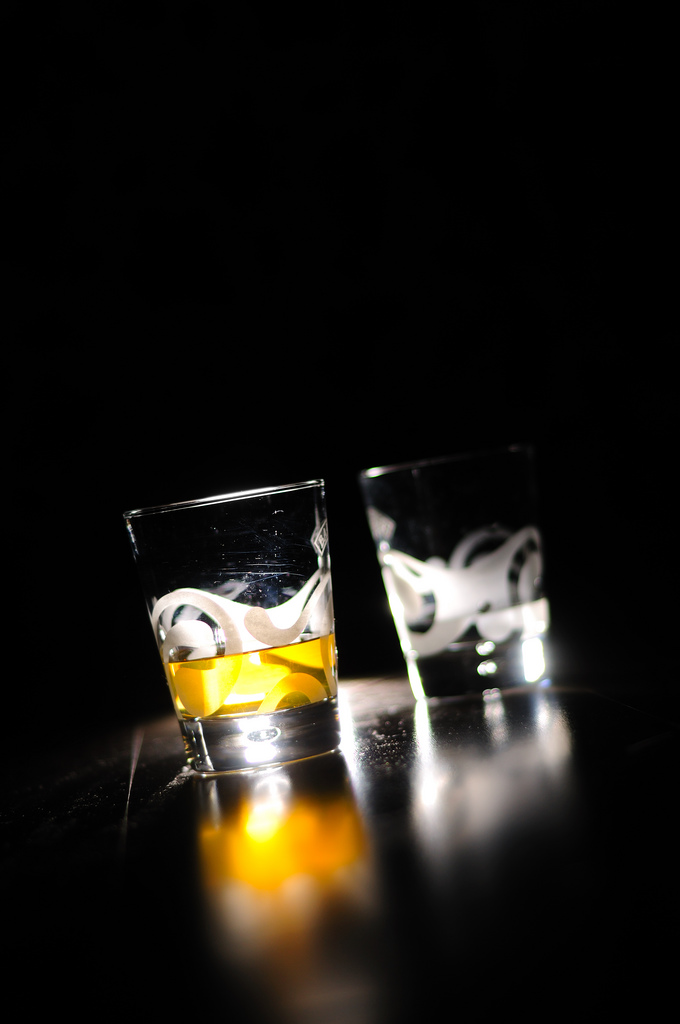glass of water: (133, 499, 350, 765), (376, 468, 564, 701)
